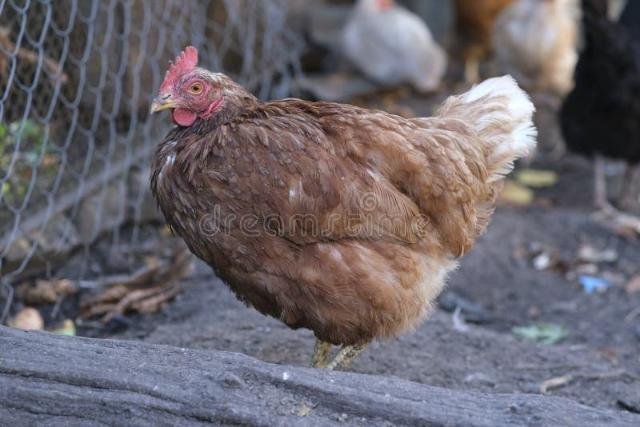Chicken: (150, 45, 538, 368)
